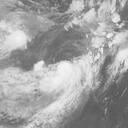cyclone: (37, 60, 84, 102)
